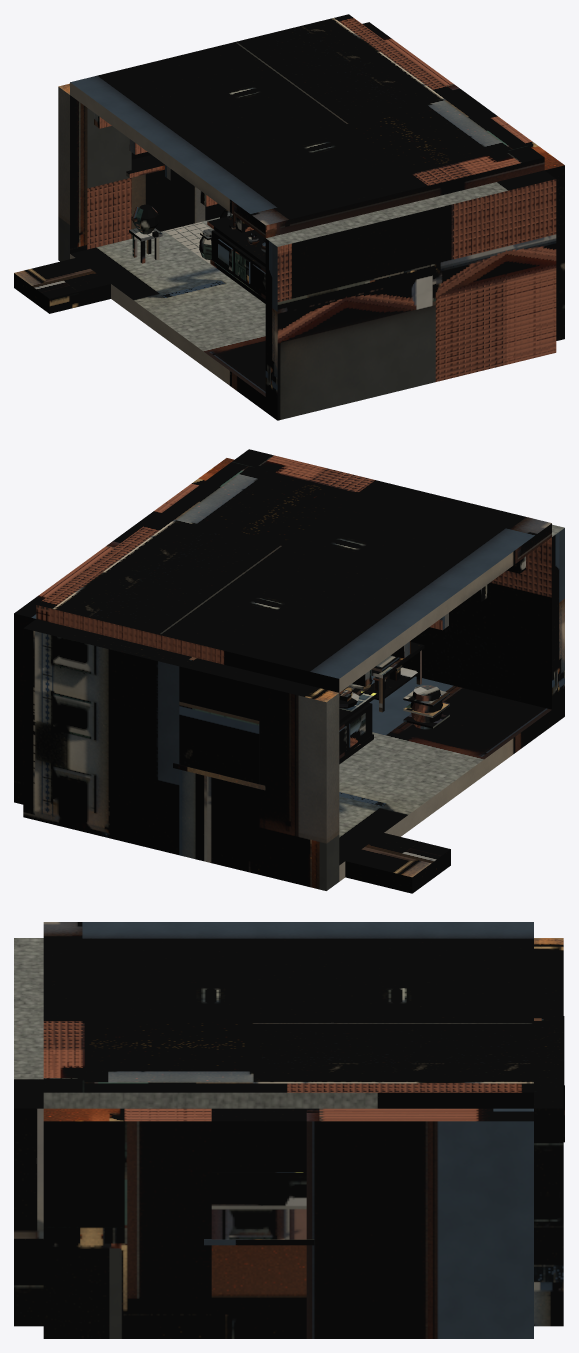
The model's file is environment.obj.
The picture shows the model from 3 angles, top to bottom: view 1: azimuth 30°, elevation 25°; view 2: azimuth 150°, elevation 25°; view 3: azimuth 270°, elevation 25°; orthographic projection. The views are drawn at different scales.
Parts seen in each view (by area): view 1: alicias_padaria_TH_RENDER_EnvironmentBakedAtlas; view 2: alicias_padaria_TH_RENDER_EnvironmentBakedAtlas; view 3: alicias_padaria_TH_RENDER_EnvironmentBakedAtlas.
Boxes of the visible parts, x1=… form: alicias_padaria_TH_RENDER_EnvironmentBakedAtlas: x1=14, y1=14, x2=564, y2=420; alicias_padaria_TH_RENDER_EnvironmentBakedAtlas: x1=14, y1=449, x2=564, y2=893; alicias_padaria_TH_RENDER_EnvironmentBakedAtlas: x1=14, y1=922, x2=564, y2=1338.
Bounding box in the file's own units: 8.82 × 4.35 × 9.29.
